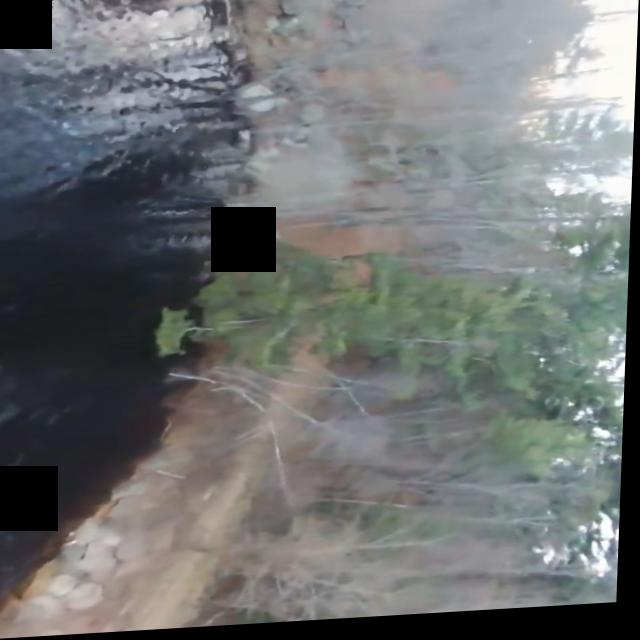Tree: (215, 432, 627, 629), (160, 234, 541, 372), (349, 110, 635, 216), (317, 352, 629, 437), (412, 207, 633, 285), (520, 284, 631, 365)
